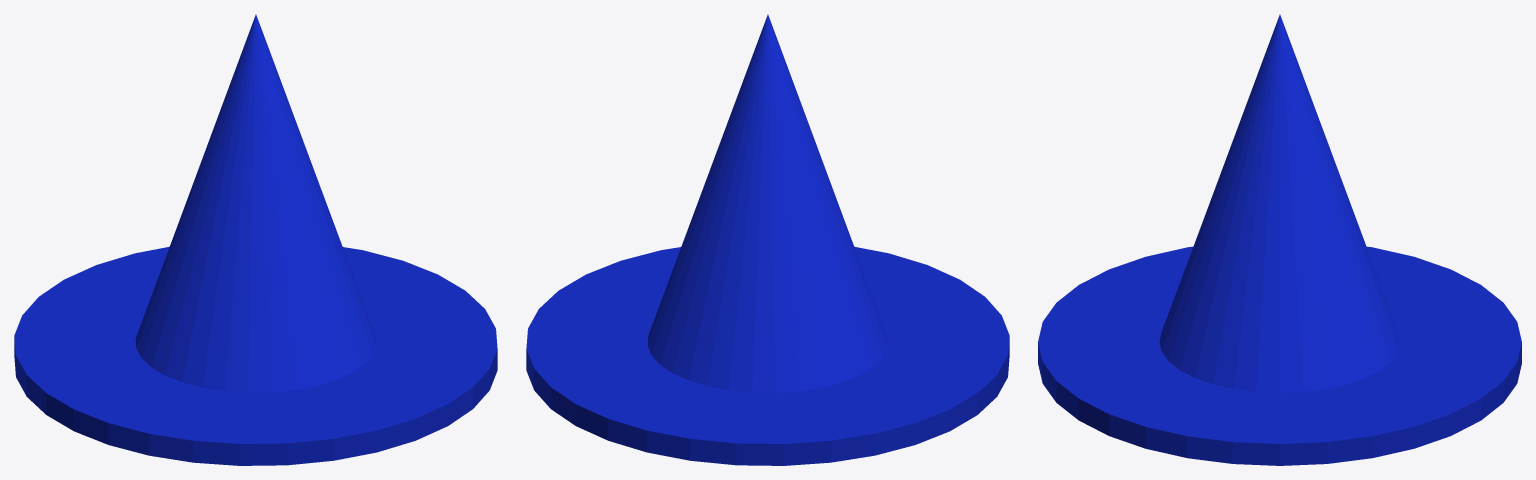
File: hat.obj
The picture shows the model from 3 angles, left to right: view 1: azimuth 30°, elevation 25°; view 2: azimuth 150°, elevation 25°; view 3: azimuth 270°, elevation 25°; orthographic projection.
Visible parts, largest first — view 1: Cylinder, Cone; view 2: Cylinder, Cone; view 3: Cylinder, Cone.
Boxes of the visible parts, <box> form: Cylinder: <box>14,246,497,465</box>; Cone: <box>135,14,376,392</box>; Cylinder: <box>526,246,1009,465</box>; Cone: <box>647,14,888,392</box>; Cylinder: <box>1038,246,1521,465</box>; Cone: <box>1159,14,1400,392</box>.
Bounding box in the file's own units: 2 × 1.59 × 2.
